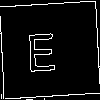E: (25, 24, 58, 72)
